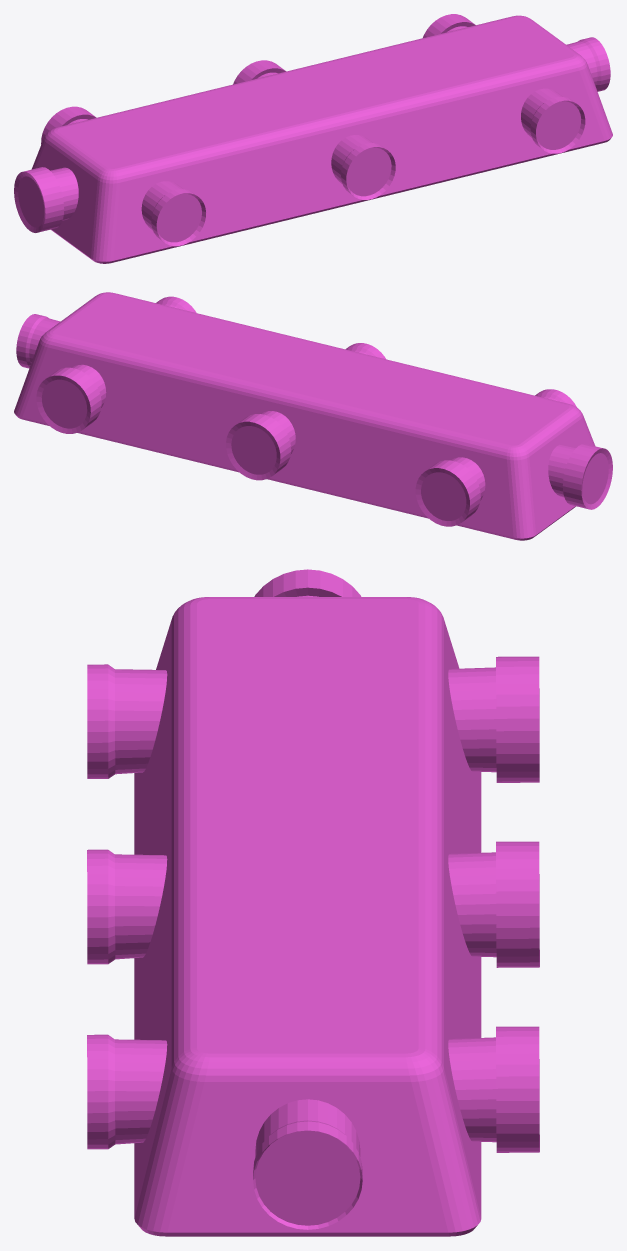
Rendered from 4num.fbx.
3 views of the same model, one above another, from view 1: azimuth 30°, elevation 25°; view 2: azimuth 150°, elevation 25°; view 3: azimuth 270°, elevation 25° (orthographic). The views are drawn at different scales.
Visible parts, largest first — view 1: Cube.019; view 2: Cube.019; view 3: Cube.019.
Boxes of the visible parts, box(x1,y1,x2,y2) form: Cube.019: box(14, 14, 612, 263); Cube.019: box(14, 292, 612, 540); Cube.019: box(87, 569, 539, 1236).
Bounding box in the file's own units: 7.48 × 1 × 2.58.
